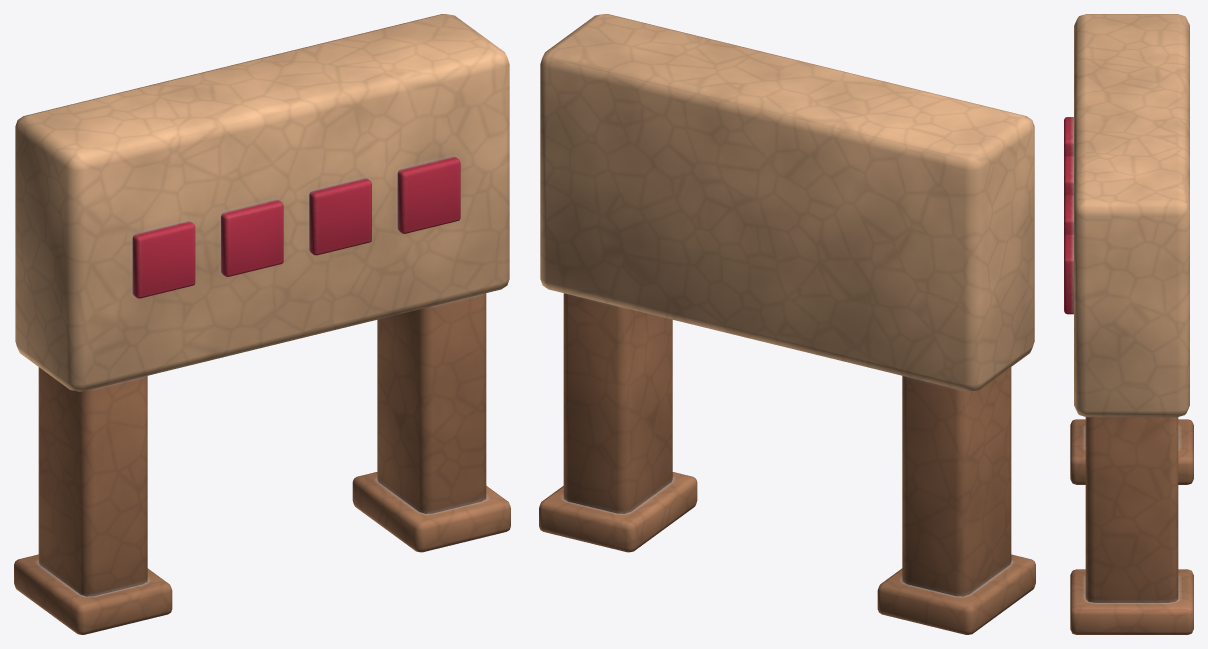
The model's file is sd_obstacle_lintel.glb.
3 renders of one model, left to right at view 1: azimuth 30°, elevation 25°; view 2: azimuth 150°, elevation 25°; view 3: azimuth 270°, elevation 25°, orthographic. The views are drawn at different scales.
Parts seen in each view (by area): view 1: sd_obstacle_lintel; view 2: sd_obstacle_lintel; view 3: sd_obstacle_lintel.
Boxes of the visible parts, box(x1,y1,x2,y2) form: sd_obstacle_lintel: box(14, 14, 510, 634); sd_obstacle_lintel: box(539, 14, 1035, 634); sd_obstacle_lintel: box(1064, 14, 1193, 634).
Bounding box in the file's own units: 3 × 3.1 × 0.84.
3 materials, 3 textured.
